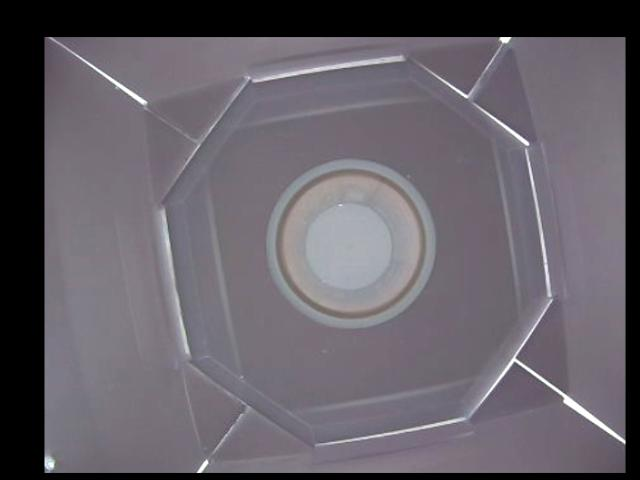Cup: (266, 157, 437, 328)
